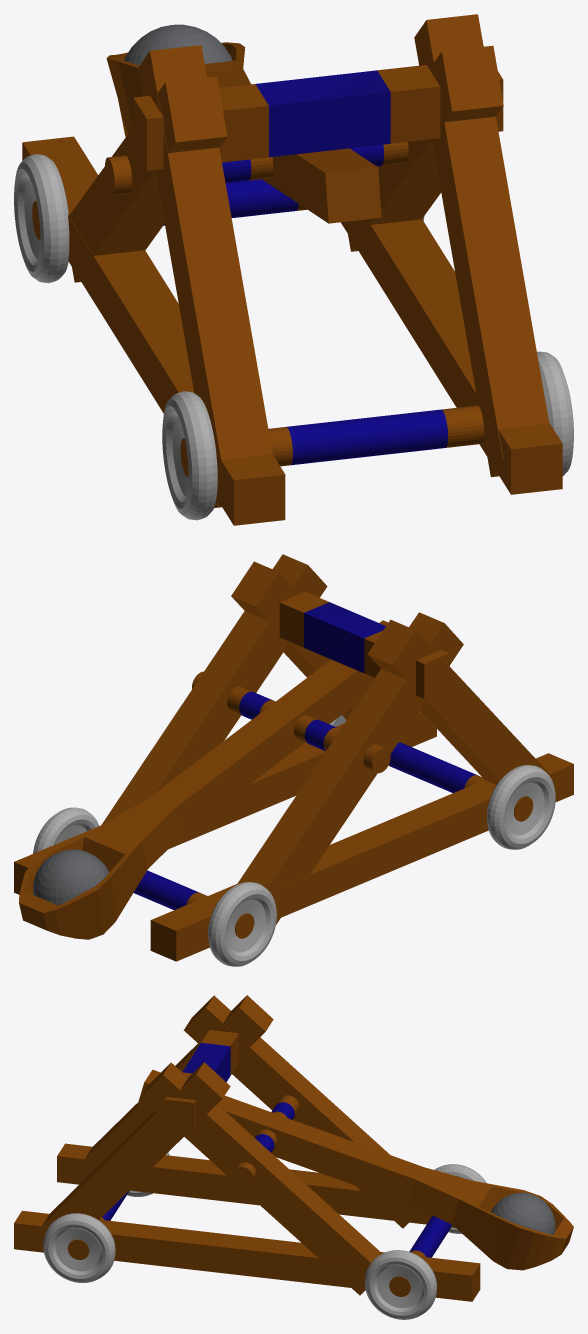
File: Катапульта2.fbx
The picture shows the model from 3 angles, top to bottom: view 1: azimuth 30°, elevation 25°; view 2: azimuth 150°, elevation 25°; view 3: azimuth 270°, elevation 25°; orthographic projection. The views are drawn at different scales.
Parts seen in each view (by area): view 1: Куб.035, Куб.038, Куб.019, Куб.032, Куб.033, Куб.036, Куб.037, Куб.034, Цилиндр.090, Тор.014, Тор.015, Цилиндр.092 (+3 smaller); view 2: Куб.037, Куб.032, Куб.036, Куб.034, Куб.038, Куб.019, Куб.033, Тор.015, Тор.014, Куб.035, Сфера.003, Цилиндр.092 (+3 smaller); view 3: Куб.037, Куб.033, Куб.034, Куб.036, Куб.032, Куб.035, Тор.012, Тор.013, Куб.038, Куб.019, Сфера.003, Цилиндр.091 (+3 smaller).
Part boxes in pixels (left/top/right/bottom): Куб.035: left=414, top=14, right=548, bottom=476; Куб.038: left=137, top=45, right=272, bottom=507; Куб.019: left=133, top=65, right=503, bottom=170; Куб.032: left=22, top=136, right=285, bottom=525; Куб.033: left=341, top=219, right=562, bottom=494; Куб.036: left=69, top=76, right=227, bottom=282; Куб.037: left=106, top=42, right=381, bottom=223; Куб.034: left=346, top=45, right=503, bottom=251; Цилиндр.090: left=180, top=405, right=484, bottom=476; Тор.014: left=14, top=154, right=69, bottom=283; Тор.015: left=162, top=391, right=217, bottom=520; Цилиндр.092: left=105, top=142, right=408, bottom=195; Куб.037: left=19, top=620, right=388, bottom=939; Куб.032: left=150, top=753, right=573, bottom=961; Куб.036: left=237, top=612, right=463, bottom=924; Куб.034: left=101, top=554, right=327, bottom=825; Куб.038: left=367, top=619, right=549, bottom=784; Куб.019: left=279, top=592, right=449, bottom=698; Куб.033: left=14, top=710, right=436, bottom=894; Тор.015: left=487, top=765, right=555, bottom=849; Тор.014: left=208, top=882, right=276, bottom=966; Куб.035: left=231, top=561, right=423, bottom=746; Сфера.003: left=33, top=849, right=108, bottom=905; Цилиндр.092: left=192, top=671, right=390, bottom=773; Куб.037: left=137, top=1069, right=573, bottom=1270; Куб.033: left=14, top=1210, right=480, bottom=1301; Куб.034: left=141, top=1062, right=380, bottom=1295; Куб.036: left=183, top=995, right=420, bottom=1228; Куб.032: left=57, top=1143, right=455, bottom=1227; Куб.035: left=42, top=1062, right=230, bottom=1226; Тор.012: left=43, top=1213, right=115, bottom=1282; Тор.013: left=364, top=1250, right=436, bottom=1319; Куб.038: left=73, top=995, right=273, bottom=1179; Куб.019: left=164, top=1030, right=238, bottom=1132; Сфера.003: left=491, top=1192, right=555, bottom=1235; Цилиндр.091: left=389, top=1215, right=452, bottom=1296.
Size of the model in its own units: 107 by 78.91 by 185.
